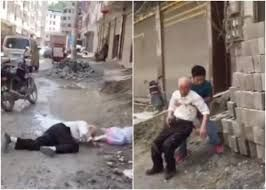fall: (137, 74, 214, 177)
